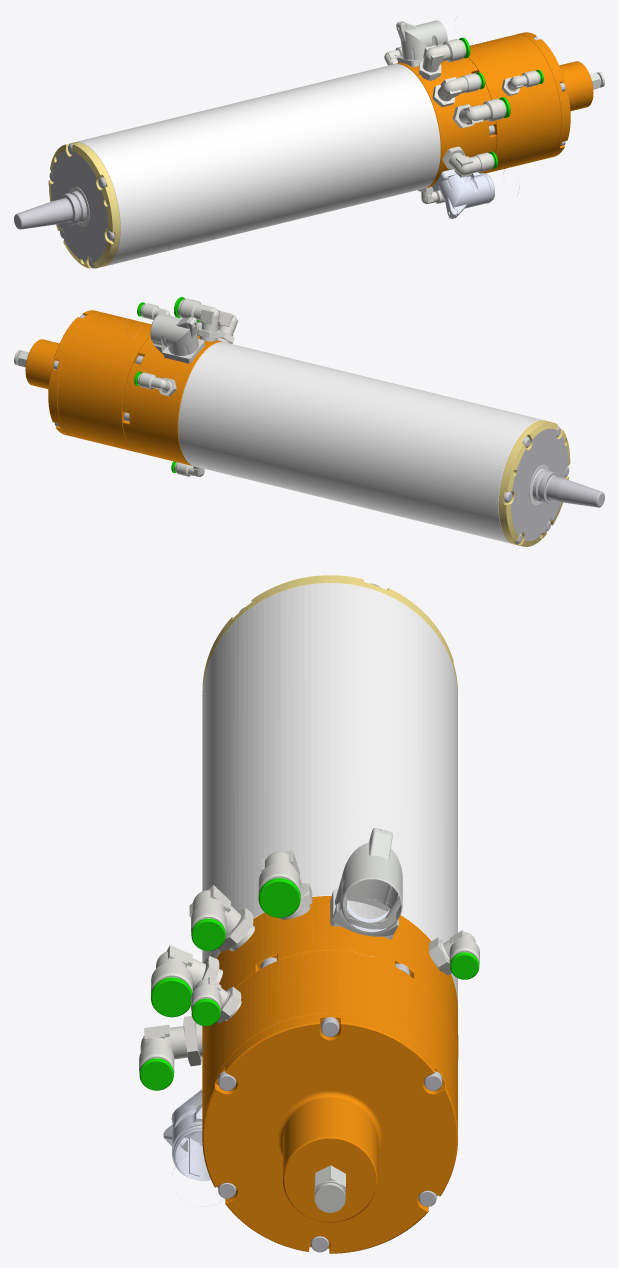
The picture shows the model from 3 angles, top to bottom: view 1: azimuth 30°, elevation 25°; view 2: azimuth 150°, elevation 25°; view 3: azimuth 270°, elevation 25°; orthographic projection. The views are drawn at different scales.
Visible parts, largest first — view 1: obj14, obj7, obj6, obj8, obj1, obj5, obj9, obj3, obj10, obj2; view 2: obj14, obj7, obj6, obj8, obj1, obj10, obj9; view 3: obj14, obj7, obj8, obj10, obj2, obj5, obj1, obj3, obj9, obj6.
Boxes of the visible parts, <box> form: obj14: <box>75,64,440,266</box>; obj7: <box>468,32,593,173</box>; obj6: <box>14,36,565,268</box>; obj8: <box>396,58,496,188</box>; obj1: <box>384,39,540,204</box>; obj5: <box>432,73,506,177</box>; obj9: <box>48,142,120,268</box>; obj3: <box>432,20,519,218</box>; obj10: <box>396,20,604,89</box>; obj2: <box>459,37,543,168</box>; obj14: <box>178,342,545,544</box>; obj7: <box>25,310,151,452</box>; obj6: <box>53,315,604,543</box>; obj8: <box>122,335,222,466</box>; obj1: <box>137,298,238,476</box>; obj10: <box>14,313,204,367</box>; obj9: <box>498,420,570,546</box>; obj14: <box>202,583,457,1002</box>; obj7: <box>202,950,457,1253</box>; obj8: <box>202,896,458,1060</box>; obj10: <box>314,828,402,1212</box>; obj2: <box>139,878,479,1090</box>; obj5: <box>139,885,253,1072</box>; obj1: <box>190,850,479,1023</box>; obj3: <box>163,895,398,1206</box>; obj9: <box>202,575,457,692</box>; obj6: <box>203,583,456,1252</box>.
Size of the model in its own units: 527 by 150 by 133.
